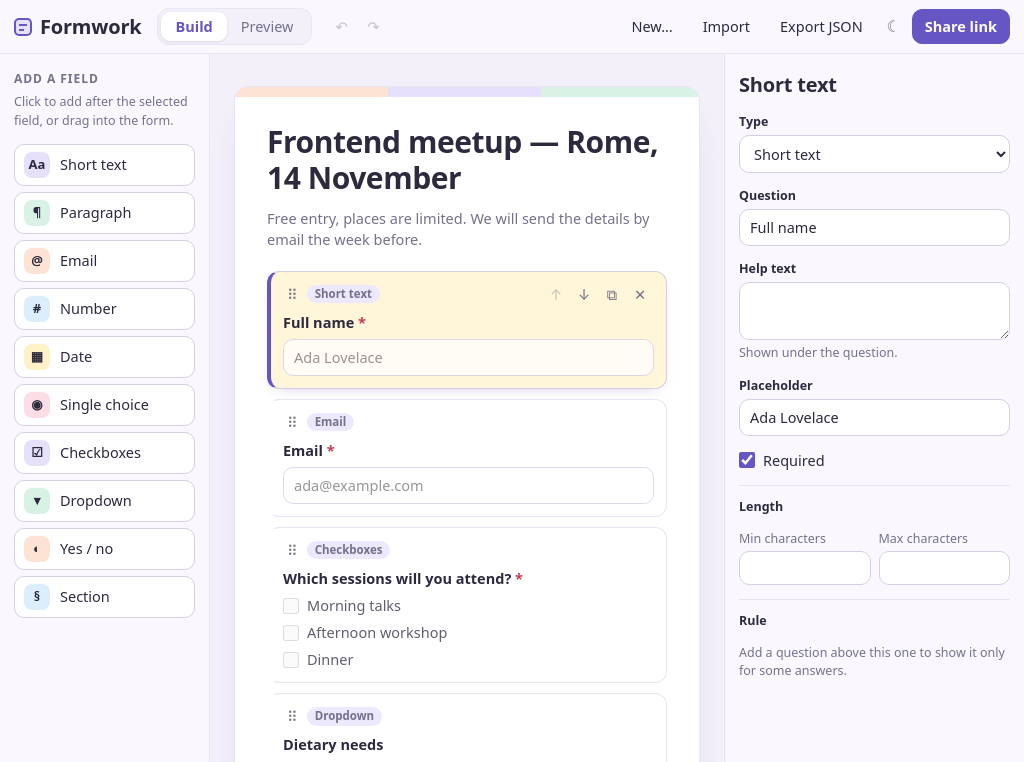
theme toggle › switches theme and remembers it
Click the button named "Switch to dark theme" at (894, 26), box [880,12,908,40]
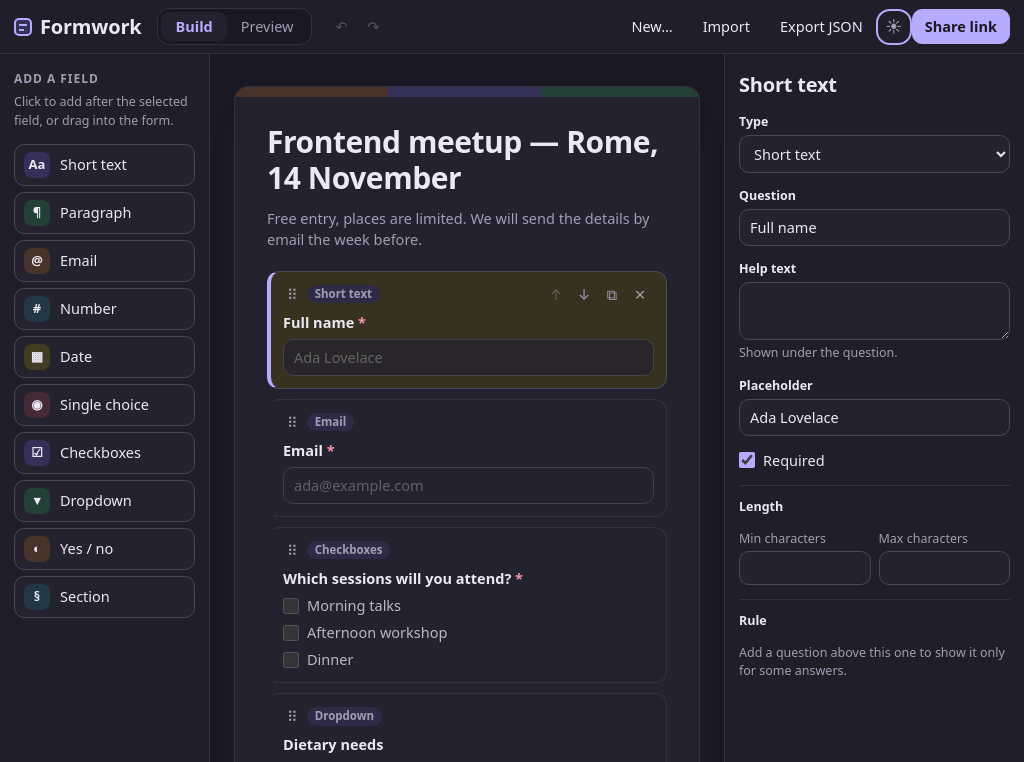
Expected: the button named "Switch to light theme" is shown, [880,12,908,40]
